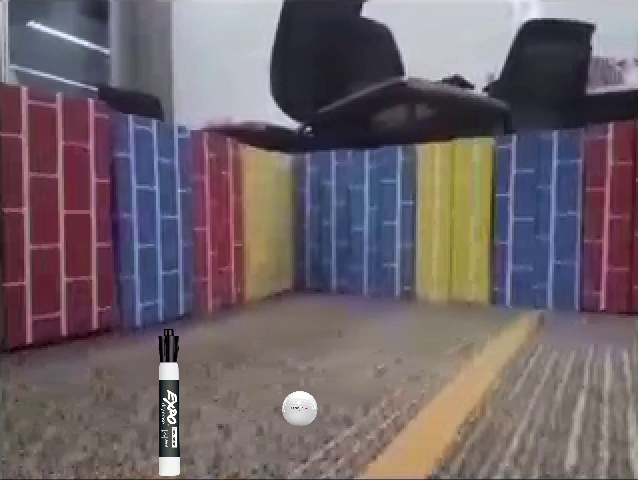ball: (282, 391, 318, 427)
